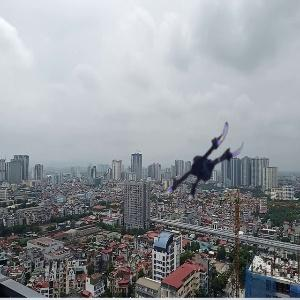drone: (152, 113, 247, 208)
